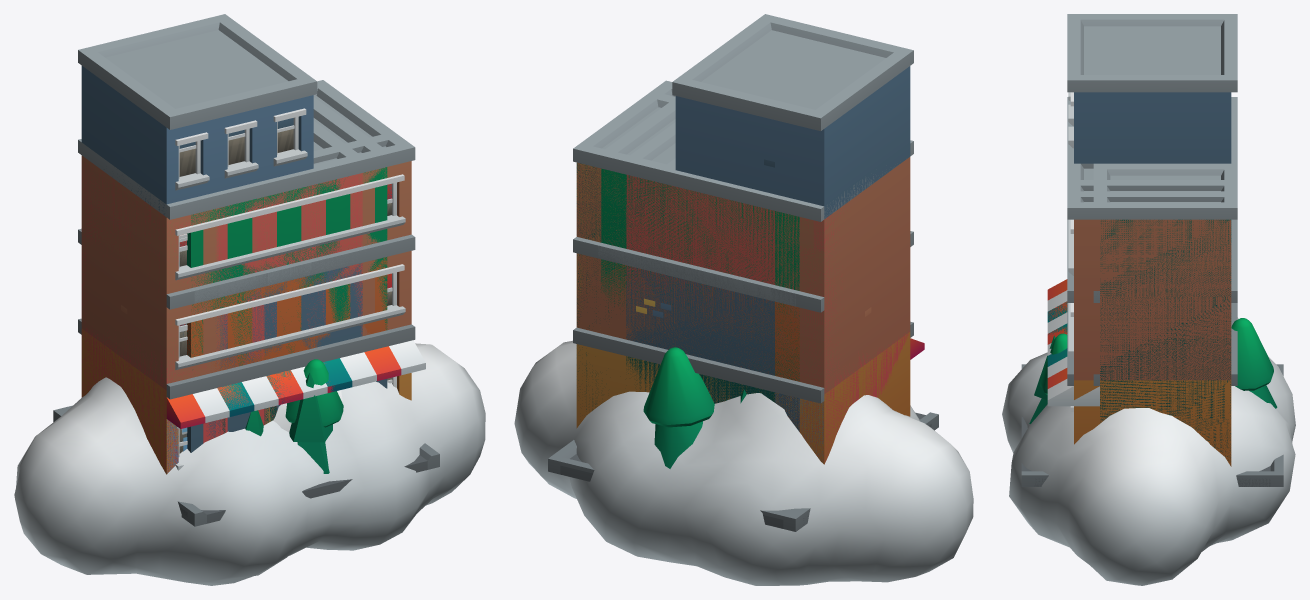
The model's file is kaykit-town.glb.
3 views of the same model, side by side, from view 1: azimuth 30°, elevation 25°; view 2: azimuth 150°, elevation 25°; view 3: azimuth 270°, elevation 25° (orthographic). The views are drawn at different scales.
Parts seen in each view (by area): view 1: cloud_big, building_E_withoutBase, building_H_withoutBase, building_D_withoutBase, building_F_withoutBase, building_B_withoutBase, building_A_withoutBase, building_C_withoutBase, building_G_withoutBase, trees_A_medium, road_straight, trees_B_medium; view 2: cloud_big, building_E_withoutBase, building_H_withoutBase, building_C_withoutBase, building_A_withoutBase, building_D_withoutBase, building_F_withoutBase, building_G_withoutBase, building_B_withoutBase, trees_B_medium, road_straight, road_corner; view 3: cloud_big, building_E_withoutBase, building_H_withoutBase, building_G_withoutBase, building_C_withoutBase, trees_B_medium, building_D_withoutBase, building_F_withoutBase, road_straight, building_A_withoutBase, road_junction, trees_A_medium.
Boxes of the visible parts, x1,y1,x2,y2 form: cloud_big: (14, 343, 485, 585); building_E_withoutBase: (78, 80, 425, 474); building_H_withoutBase: (78, 14, 317, 473); building_D_withoutBase: (187, 97, 390, 365); building_F_withoutBase: (78, 80, 415, 472); building_B_withoutBase: (187, 257, 390, 452); building_A_withoutBase: (216, 249, 376, 433); building_C_withoutBase: (215, 121, 365, 424); building_G_withoutBase: (167, 80, 388, 472); trees_A_medium: (245, 372, 332, 473); road_straight: (53, 408, 439, 526); trees_B_medium: (285, 359, 343, 427); cloud_big: (514, 340, 973, 585); building_E_withoutBase: (573, 81, 924, 464); building_H_withoutBase: (574, 14, 913, 402); building_C_withoutBase: (622, 122, 774, 388); building_A_withoutBase: (622, 252, 774, 403); building_D_withoutBase: (598, 98, 799, 381); building_F_withoutBase: (573, 80, 913, 463); building_G_withoutBase: (573, 91, 912, 458); building_B_withoutBase: (598, 245, 799, 431); trees_B_medium: (643, 347, 714, 468); road_straight: (548, 413, 938, 531); road_corner: (549, 418, 926, 519); cloud_big: (1002, 317, 1295, 585); building_E_withoutBase: (1047, 103, 1237, 466); building_H_withoutBase: (1067, 14, 1237, 406); building_G_withoutBase: (1047, 98, 1237, 460); building_C_withoutBase: (1067, 146, 1237, 268); trees_B_medium: (1040, 318, 1277, 408); building_D_withoutBase: (1067, 108, 1237, 279); building_F_withoutBase: (1067, 97, 1237, 411); road_straight: (1021, 364, 1283, 486); building_A_withoutBase: (1047, 301, 1237, 376); road_junction: (1021, 364, 1283, 486); trees_A_medium: (1029, 335, 1055, 423).
Bounding box in the file's own units: 3.61 × 3.96 × 2.24.
Materials: 2 (2 with a texture image).
